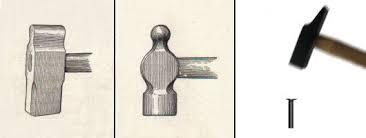hammer: (137, 22, 219, 118)
